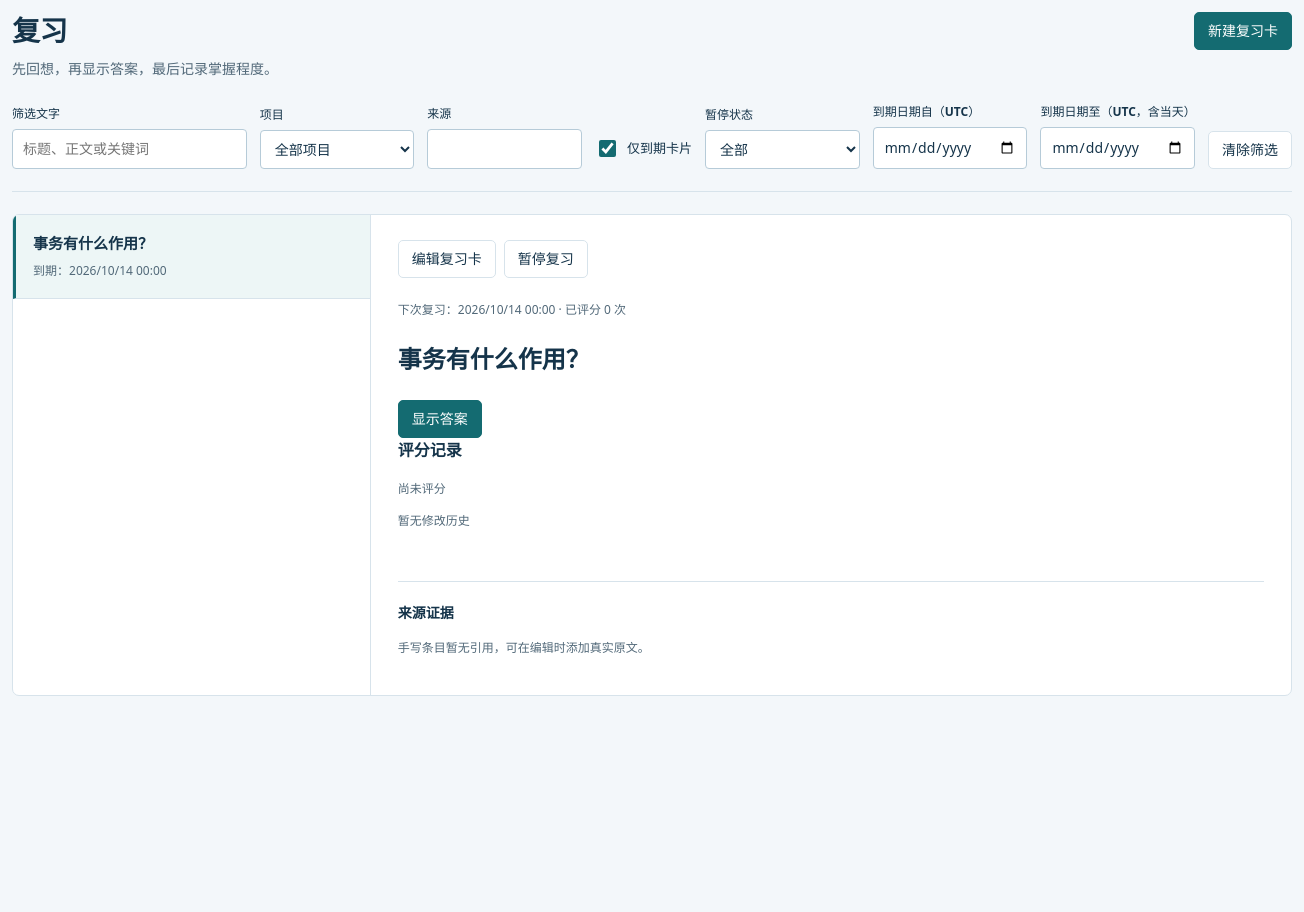
Test: review only offers named grades after answer reveal and displays updated due history
The image size is (1304, 912).
Expected: the button "事务有什么作用？" is shown, [33,233,350,254]
Expected: the button "记得" is not shown
Click the button "显示答案".
click(440, 419)  # box [398,400,482,438]
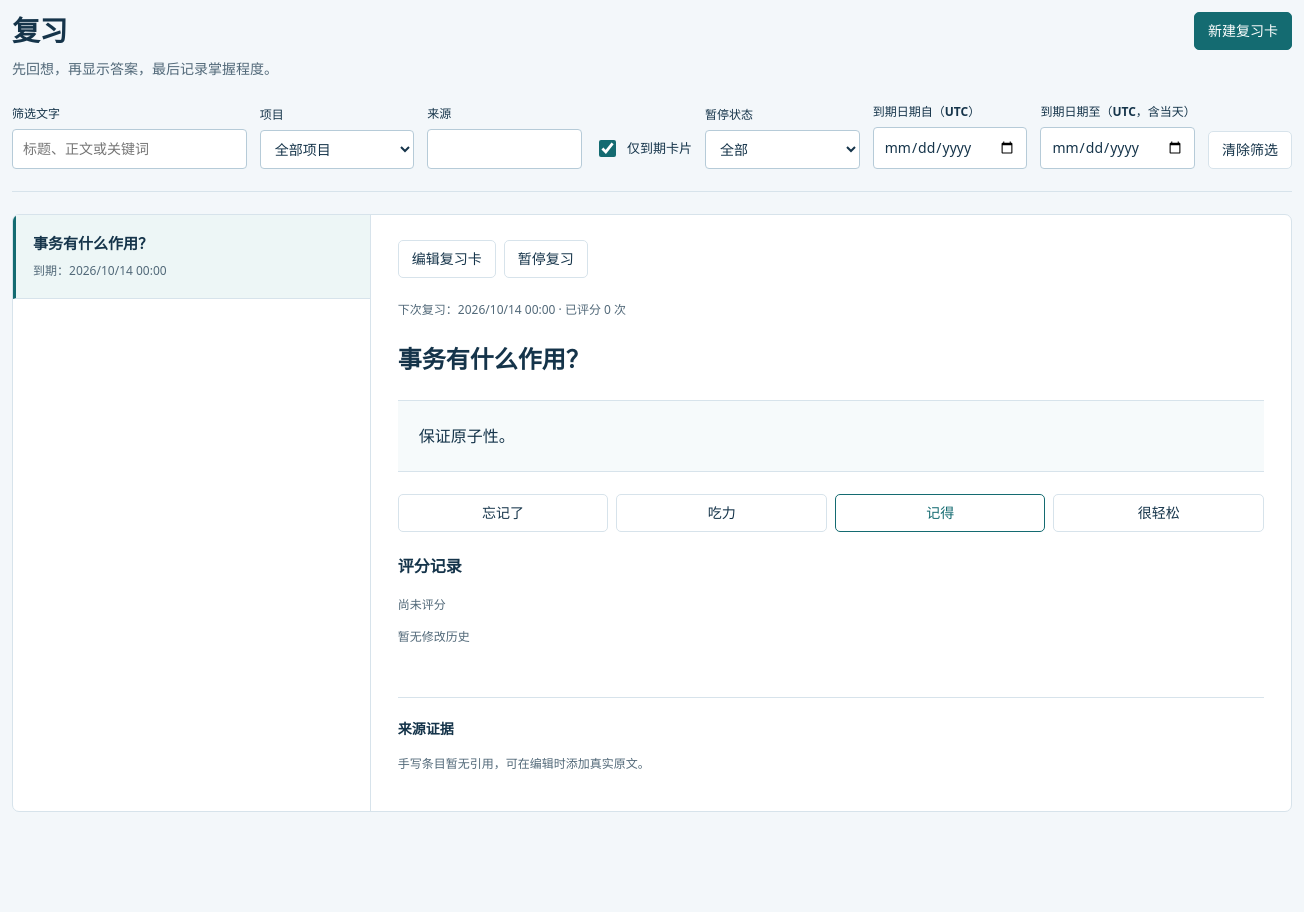
Result: the text "保证原子性。" is shown at [419,425,515,447]
Click the button "记得".
click(940, 513)  # box [835,494,1045,532]
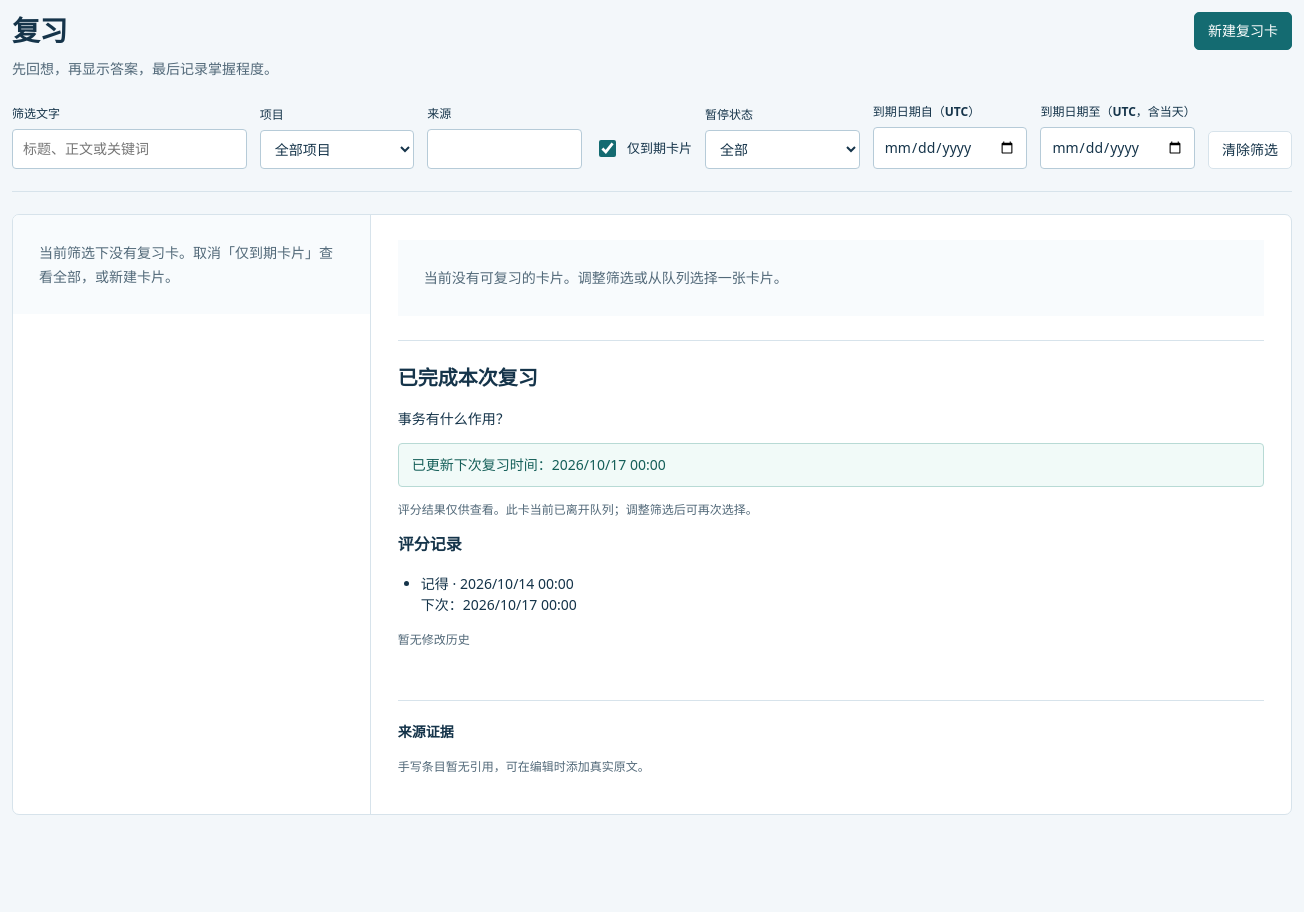
Result: the text "2026/10/17 00:00" next to "已更新下次复习时间：" is shown at [552,455,666,474]
